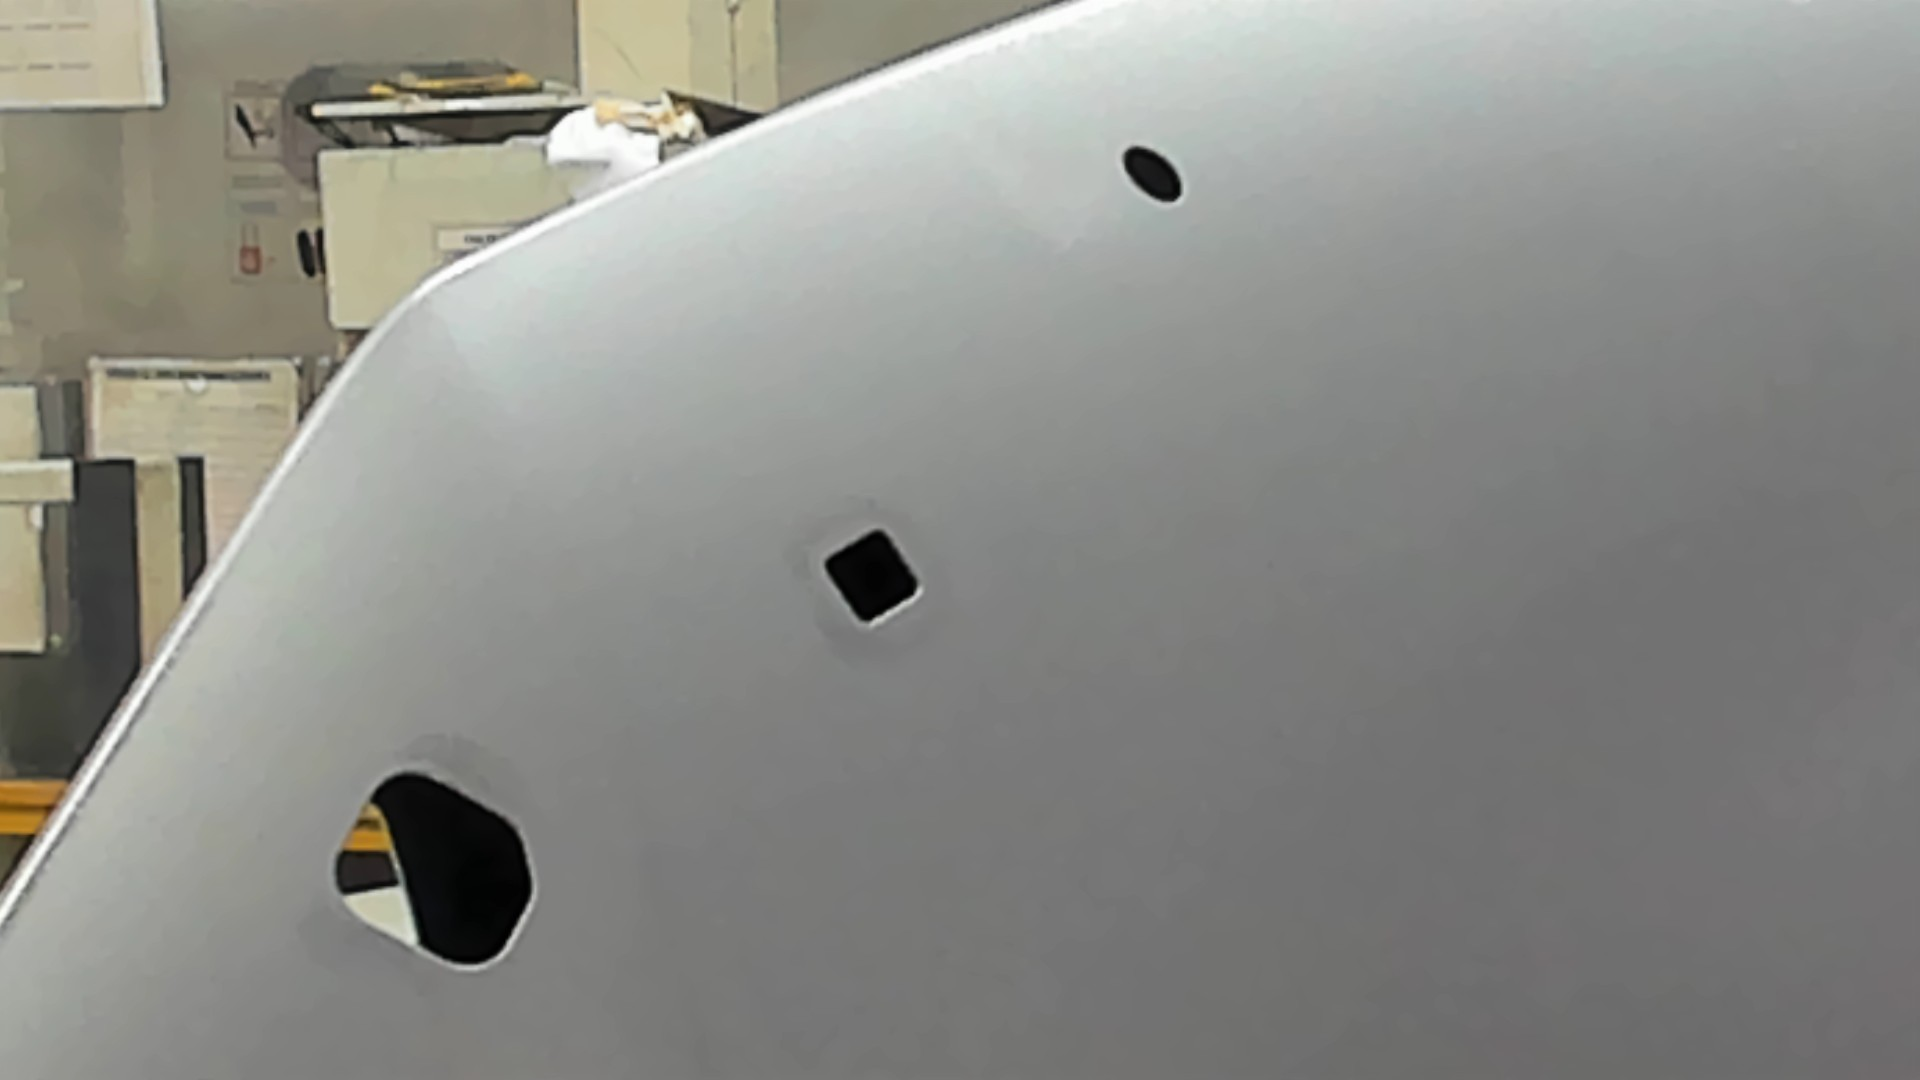Agujero: (822, 527, 926, 626), (1121, 144, 1184, 204)
Agujerote: (331, 762, 539, 975)
